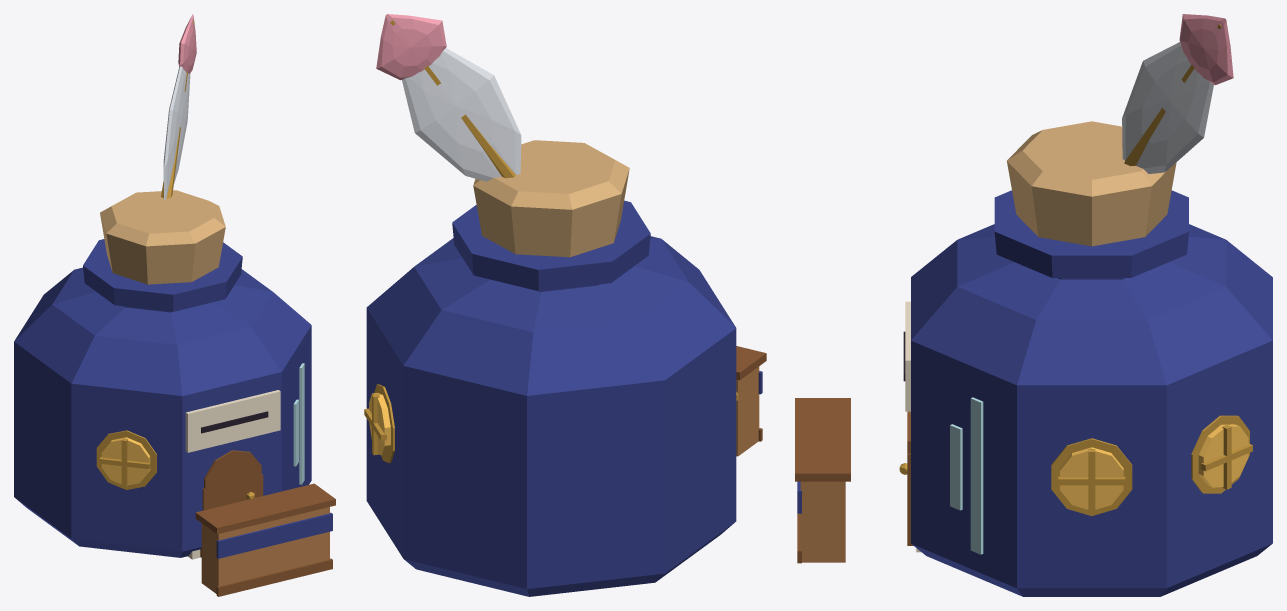
The model's file is shop_ink.glb.
3 views of the same model, side by side, from view 1: azimuth 30°, elevation 25°; view 2: azimuth 150°, elevation 25°; view 3: azimuth 270°, elevation 25° (orthographic). The views are drawn at different scales.
Parts seen in each view (by area): view 1: shop_ink, counter; view 2: shop_ink, counter; view 3: shop_ink, counter.
Part boxes in pixels (left/top/right/bottom): shop_ink: left=14, top=14, right=311, bottom=559; counter: left=195, top=483, right=335, bottom=596; shop_ink: left=364, top=14, right=738, bottom=596; counter: left=736, top=346, right=766, bottom=456; shop_ink: left=899, top=14, right=1272, bottom=596; counter: left=795, top=398, right=850, bottom=563.
Bounding box in the file's own units: 3.35 × 5.53 × 4.27.
